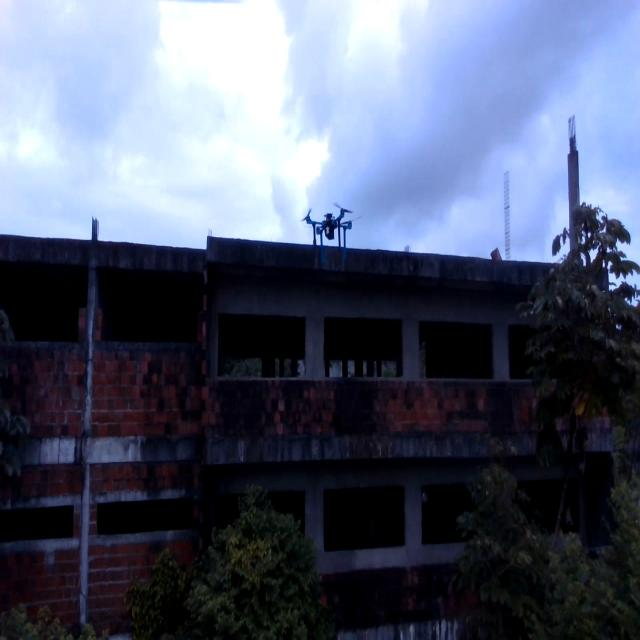-uav-: (296, 192, 359, 270)
